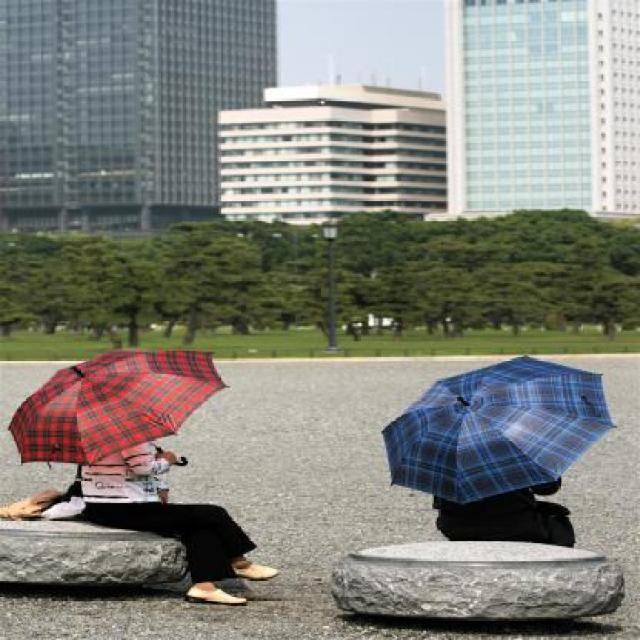Person: (74, 438, 280, 608), (431, 476, 574, 544)
